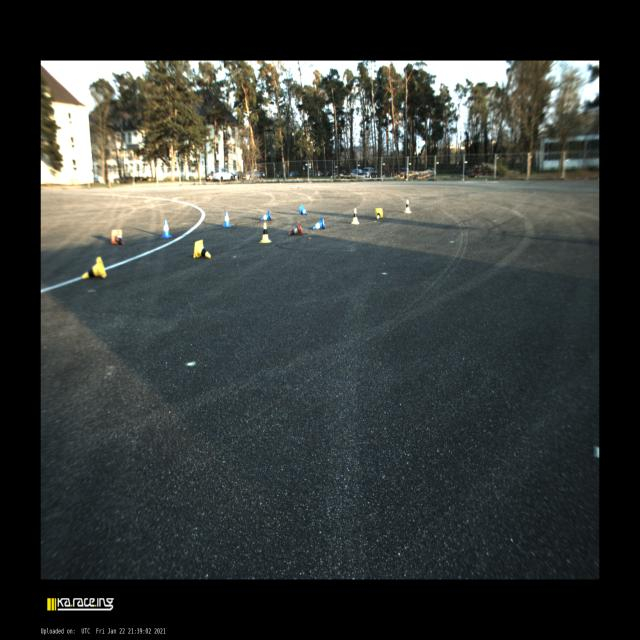blue_cone: (161, 220, 172, 238), (313, 218, 325, 230), (223, 212, 231, 227), (262, 210, 272, 220), (299, 206, 308, 216)
orange_cone: (111, 230, 125, 245), (289, 222, 303, 236)
yellow_cone: (82, 257, 107, 279), (193, 240, 210, 258), (259, 223, 271, 243), (351, 208, 359, 224), (375, 208, 383, 220), (405, 200, 411, 213)
